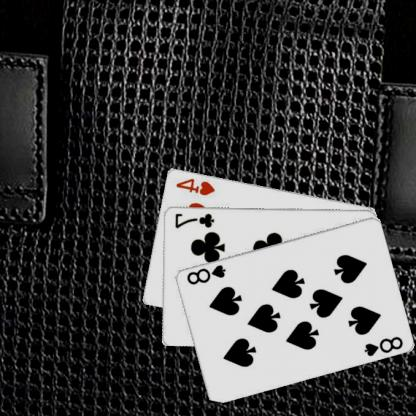4H: (175, 175, 218, 196)
7C: (174, 210, 216, 229)
8S: (185, 262, 229, 286), (362, 333, 406, 357)
